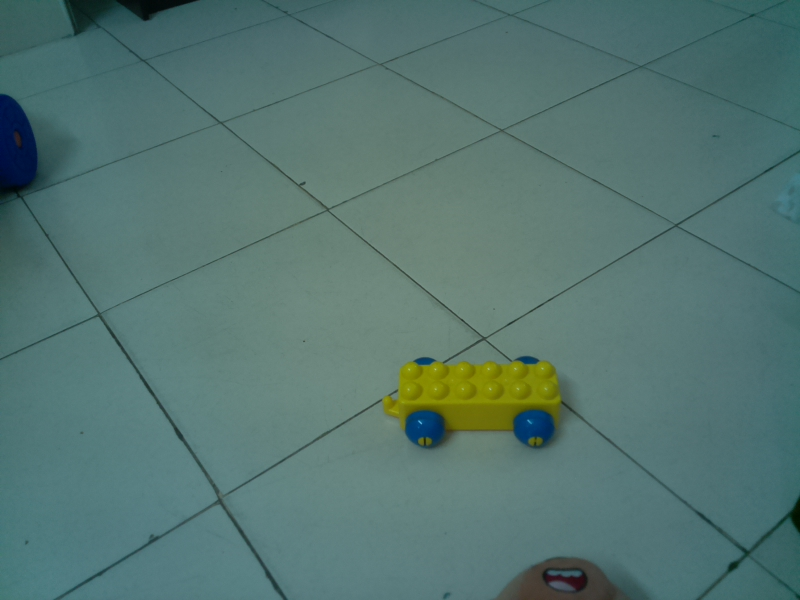toy_Car: (380, 348, 571, 455)
